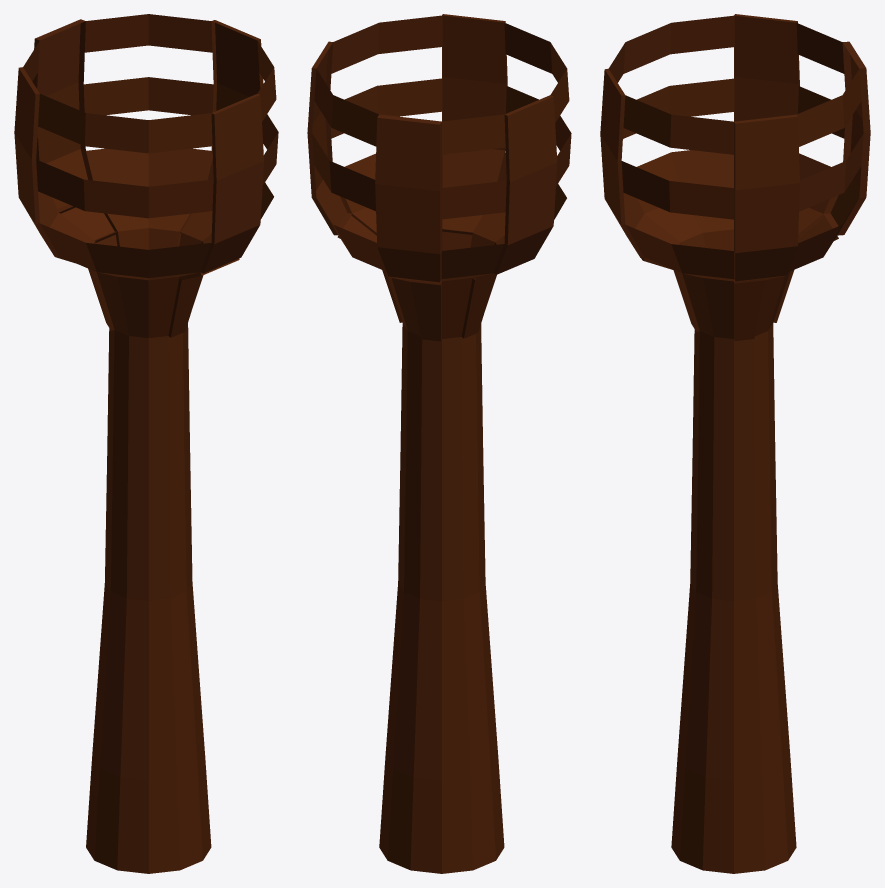
The model's file is Tocha.fbx.
The picture shows the model from 3 angles, left to right: view 1: azimuth 30°, elevation 25°; view 2: azimuth 150°, elevation 25°; view 3: azimuth 270°, elevation 25°; orthographic projection.
Visible parts, largest first — view 1: Tocha; view 2: Tocha; view 3: Tocha.
Part boxes in pixels (x1,y1,x2,y2): Tocha: (14,14,278,873); Tocha: (307,14,571,873); Tocha: (600,14,870,873).
Size of the model in its own units: 27.99 by 89.61 by 28.19.
